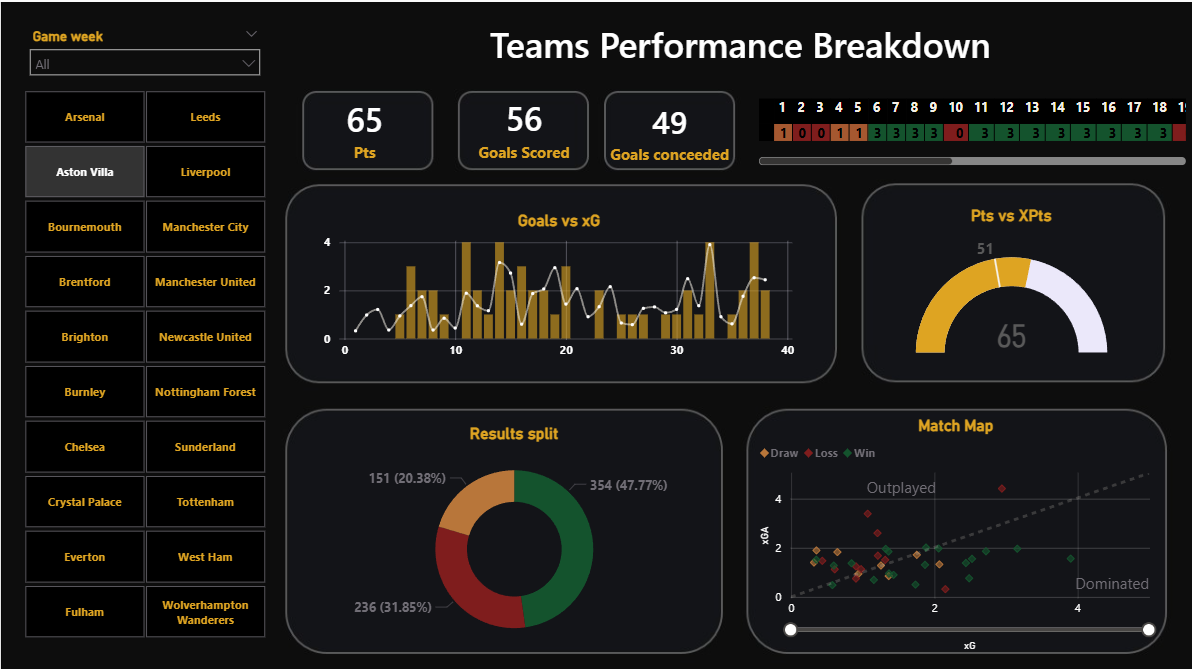

This screenshot's page, from the dashboard's own definition file:
{"tool":"powerbi","page":{"name":"Team deep dive","canvas":[1280,720],"ordinal":1},"visuals":[{"type":"cardVisual","fields":{"Data":["Sum(home_away.pts)"]},"box":[292.7,87.5,186.1,95.4],"z":0},{"type":"slicer","fields":{"Values":["season_table.team"]},"box":[0,87.5,303.8,593.3],"z":1000},{"type":"pivotTable","fields":{"Columns":["matches.match_no"],"Values":["Sum(matches.pts)"]},"box":[798.5,97,462.9,81.1],"z":2000},{"type":"slicer","fields":{"Values":["matches.match_no"]},"box":[20.7,22.3,264,65.2],"z":3000},{"type":"gauge","title":"Pts vs XPts","fields":{"Y":["Sum(matches.pts)"],"TargetValue":["Sum(matches.xpts)"]},"box":[957.5,216.3,227.5,160.7],"z":4000},{"type":"lineClusteredColumnComboChart","title":"Goals vs xG","fields":{"Category":["matches.match_no"],"Y":["Sum(matches.scored)"],"Y2":["Sum(matches.xG)"]},"box":[337.2,221.1,509,165.4],"z":5000},{"type":"scatterChart","title":"Match Map","fields":{"X":["Sum(matches.xG)"],"Category":["matches.match_no"],"Y":["Sum(matches.xGA)"],"Series":["matches.result_label"]},"box":[798.5,439,427.9,254.5],"z":6000},{"type":"cardVisual","fields":{"Data":["Sum(matches.scored)"]},"box":[459.7,81.1,190.9,106.6],"z":7000},{"type":"cardVisual","fields":{"Data":["Sum(season_table.ga)"]},"box":[609.2,87.5,200.4,100.2],"z":8000},{"type":"donutChart","title":"Results split","fields":{"Category":["matches.result_label"],"Y":["Sum(matches.match_no)"]},"box":[321.3,447,445.4,246.5],"z":9000},{"type":"textbox","box":[351.5,14.3,865.3,82.7],"z":10000},{"type":"textbox","box":[1134.1,599.7,128.8,35],"z":11000},{"type":"textbox","box":[913,497.9,128.8,35],"z":12000}]}

Visuals, with their boxes in screenshot pixels (x1, y1, x2, y2), scaled from the page's 1280x720 canvas onto the 1192x669 screenshot:
cardVisual - Sum(home_away.pts): {"x1": 273, "y1": 81, "x2": 446, "y2": 170}
slicer - season_table.team: {"x1": 0, "y1": 81, "x2": 283, "y2": 633}
pivotTable - matches.match_no x Sum(matches.pts): {"x1": 744, "y1": 90, "x2": 1175, "y2": 165}
slicer - matches.match_no: {"x1": 19, "y1": 21, "x2": 265, "y2": 81}
"Pts vs XPts" gauge: {"x1": 892, "y1": 201, "x2": 1104, "y2": 350}
"Goals vs xG" lineClusteredColumnComboChart: {"x1": 314, "y1": 205, "x2": 788, "y2": 359}
"Match Map" scatterChart: {"x1": 744, "y1": 408, "x2": 1142, "y2": 644}
cardVisual - Sum(matches.scored): {"x1": 428, "y1": 75, "x2": 606, "y2": 174}
cardVisual - Sum(season_table.ga): {"x1": 567, "y1": 81, "x2": 754, "y2": 174}
"Results split" donutChart: {"x1": 299, "y1": 415, "x2": 714, "y2": 644}
textbox: {"x1": 327, "y1": 13, "x2": 1133, "y2": 90}
textbox: {"x1": 1056, "y1": 557, "x2": 1176, "y2": 590}
textbox: {"x1": 850, "y1": 463, "x2": 970, "y2": 495}
